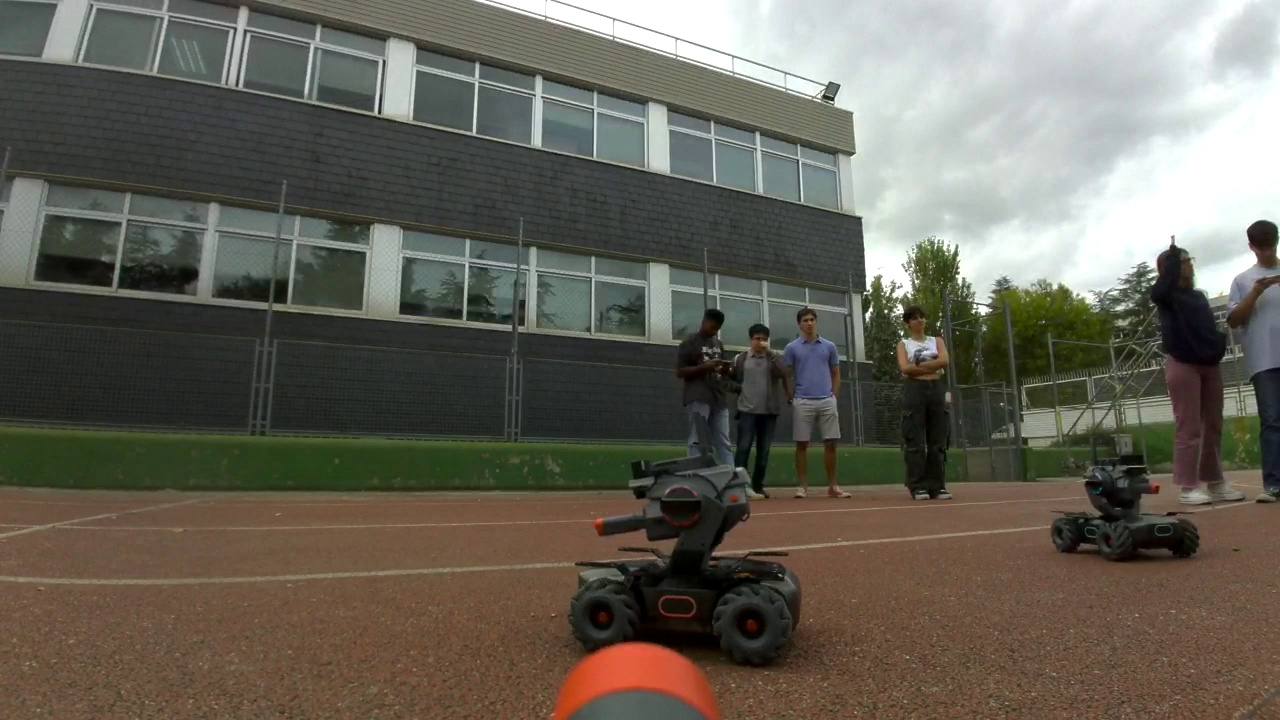robot: (569, 455, 803, 667), (1051, 455, 1199, 564)
